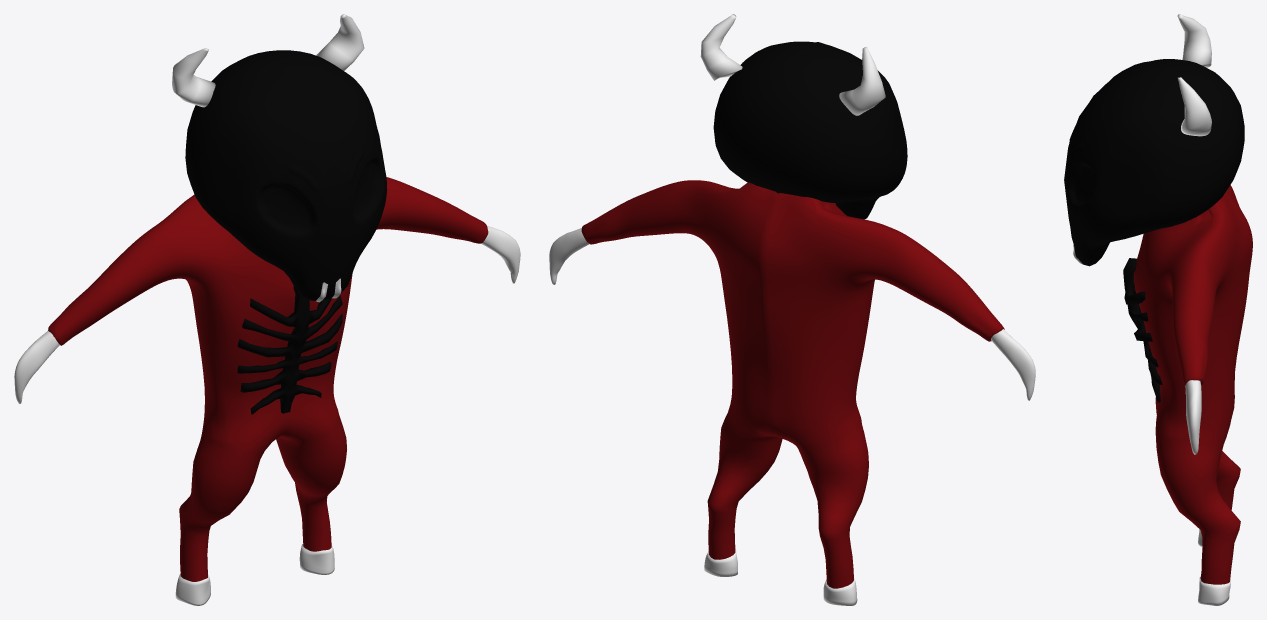
Rendered from single.fbx.
The picture shows the model from 3 angles, left to right: view 1: azimuth 30°, elevation 25°; view 2: azimuth 150°, elevation 25°; view 3: azimuth 270°, elevation 25°; orthographic projection. The views are drawn at different scales.
Visible parts, largest first — view 1: single; view 2: single; view 3: single.
Part boxes in pixels (bbox=[...]): single: bbox=[14, 14, 520, 605]; single: bbox=[549, 14, 1035, 605]; single: bbox=[1064, 14, 1252, 605].
Size of the model in its own units: 441 by 472 by 153.
